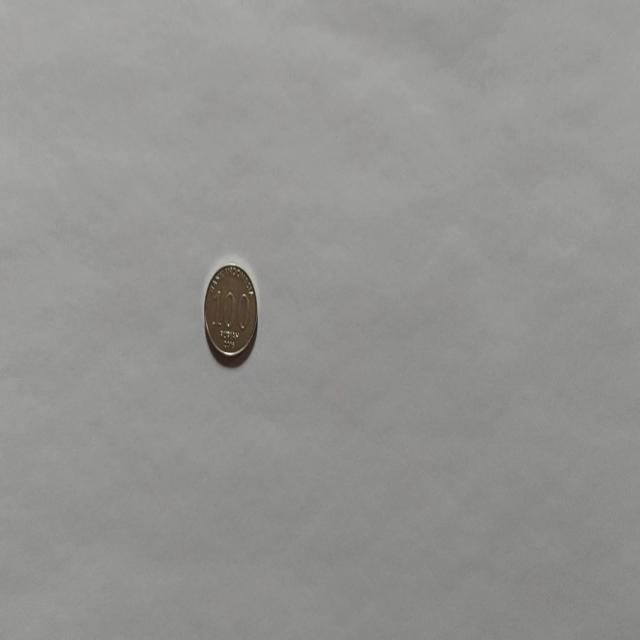seratus rupiah: (202, 261, 258, 363)
